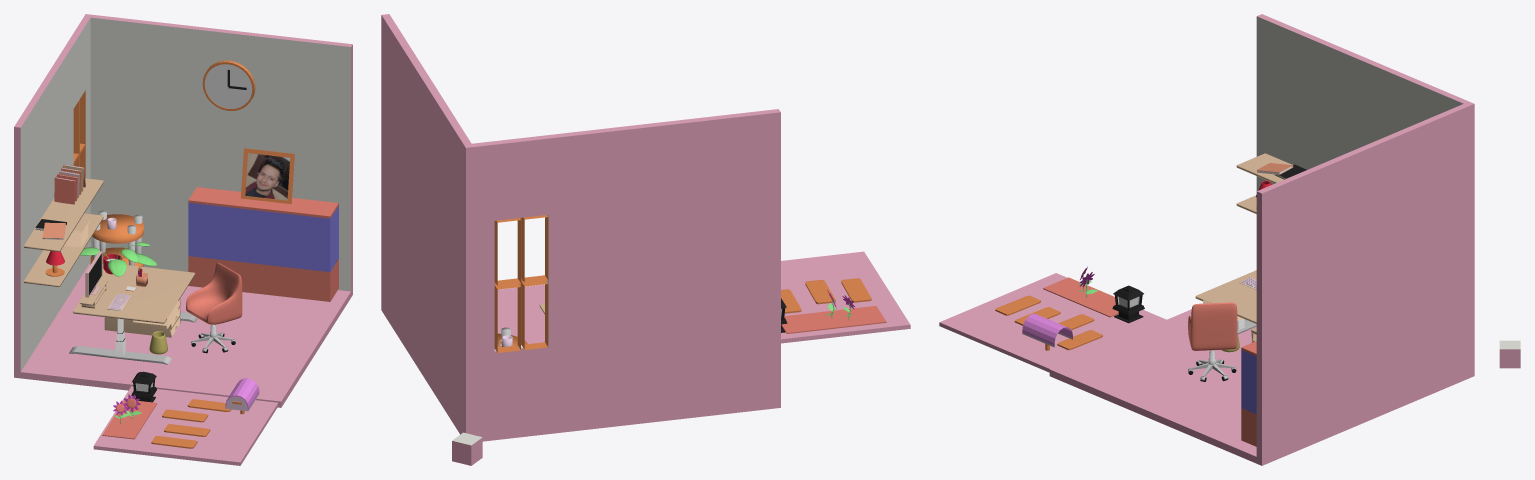
File: prfofile.glb
3 renders of one model, left to right at view 1: azimuth 30°, elevation 25°; view 2: azimuth 150°, elevation 25°; view 3: azimuth 270°, elevation 25°, orthographic. The views are drawn at different scales.
Visible parts, largest first — view 1: body, aquarium, desks, mini floor, shelves, chair, clock, tableStuff, floorItems, dirt, mailbox, lamp (+5 smaller); view 2: body, mini floor, dirt, loader; view 3: body, mini floor, chair, desks, aquarium, shelves, dirt, mailbox, lamp, floorItems, loader.
Boxes of the visible parts, x1,y1,x2,y2 form: body: (14,14,352,407); aquarium: (188,148,338,301); desks: (69,210,197,364); mini floor: (93,386,278,465); shelves: (24,164,103,287); chair: (186,262,242,324); clock: (202,60,255,110); tableStuff: (80,217,156,310); floorItems: (104,299,235,354); dirt: (102,400,157,439); mailbox: (225,378,259,414); lamp: (131,371,156,402); body: (381,14,780,441); mini floor: (781,251,910,343); dirt: (781,306,886,333); loader: (452,432,482,465); body: (1049,14,1474,465); mini floor: (939,273,1166,372); chair: (1188,302,1237,350); desks: (1195,270,1256,334); aquarium: (1241,341,1256,446); shelves: (1236,153,1306,213); dirt: (1043,277,1118,317); mailbox: (1022,313,1072,350); lamp: (1112,285,1144,323); floorItems: (1188,328,1256,381); loader: (1499,340,1520,368).
Size of the model in its own units: 42.71 by 28.9 by 55.89.
Materials: 24 (1 with a texture image).
